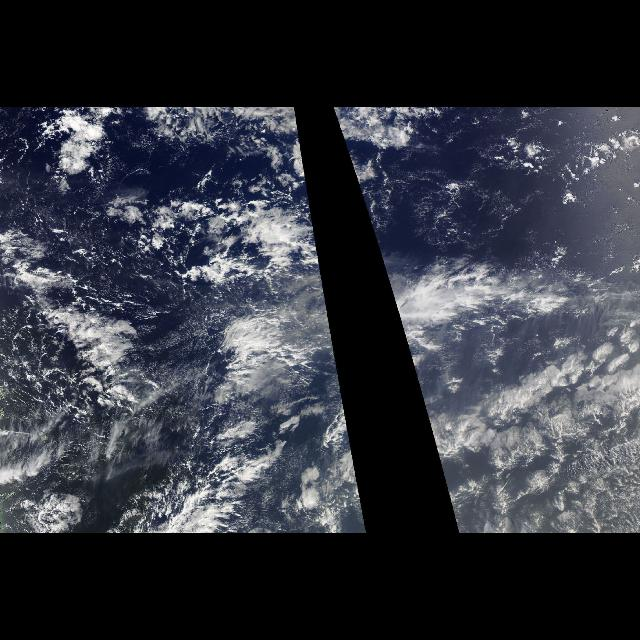Gravel: (2, 208, 306, 432)
